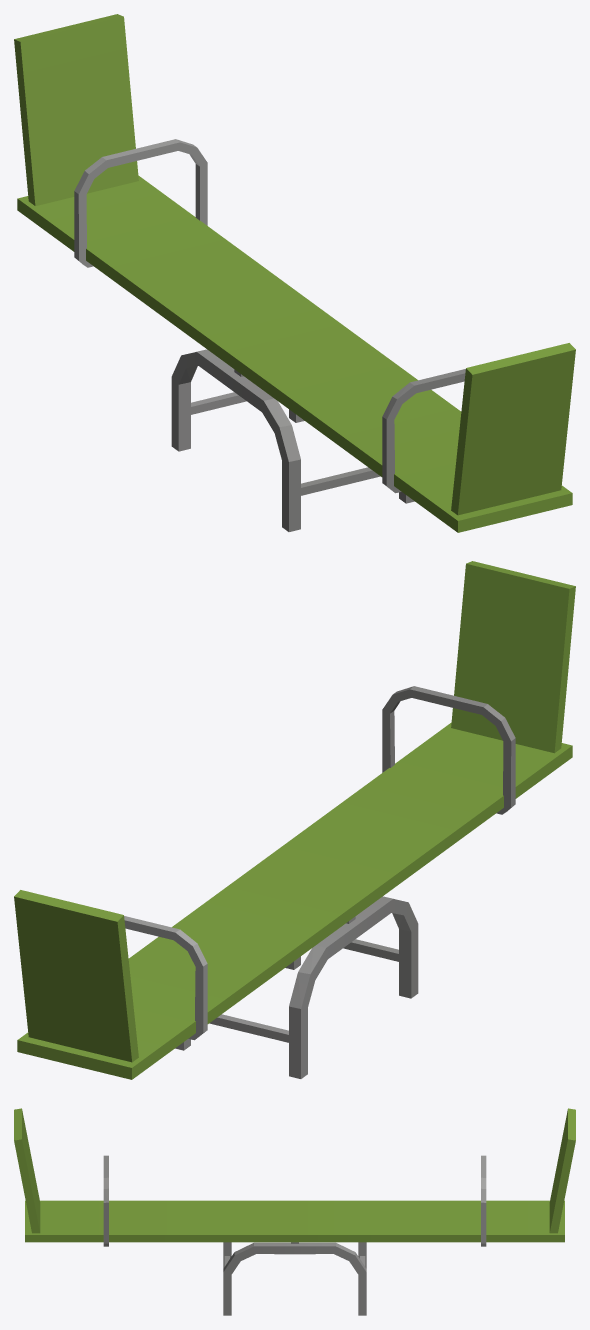
File: Playground_04.fbx
3 renders of one model, top to bottom at view 1: azimuth 30°, elevation 25°; view 2: azimuth 150°, elevation 25°; view 3: azimuth 270°, elevation 25°, orthographic. The views are drawn at different scales.
Parts seen in each view (by area): view 1: Playground_04; view 2: Playground_04; view 3: Playground_04.
Part boxes in pixels (<box>): Playground_04: <box>14,14,575,532</box>; Playground_04: <box>14,561,575,1079</box>; Playground_04: <box>14,1108,575,1315</box>.
Bounding box in the file's own units: 0.339 × 0.7044 × 2.08.
